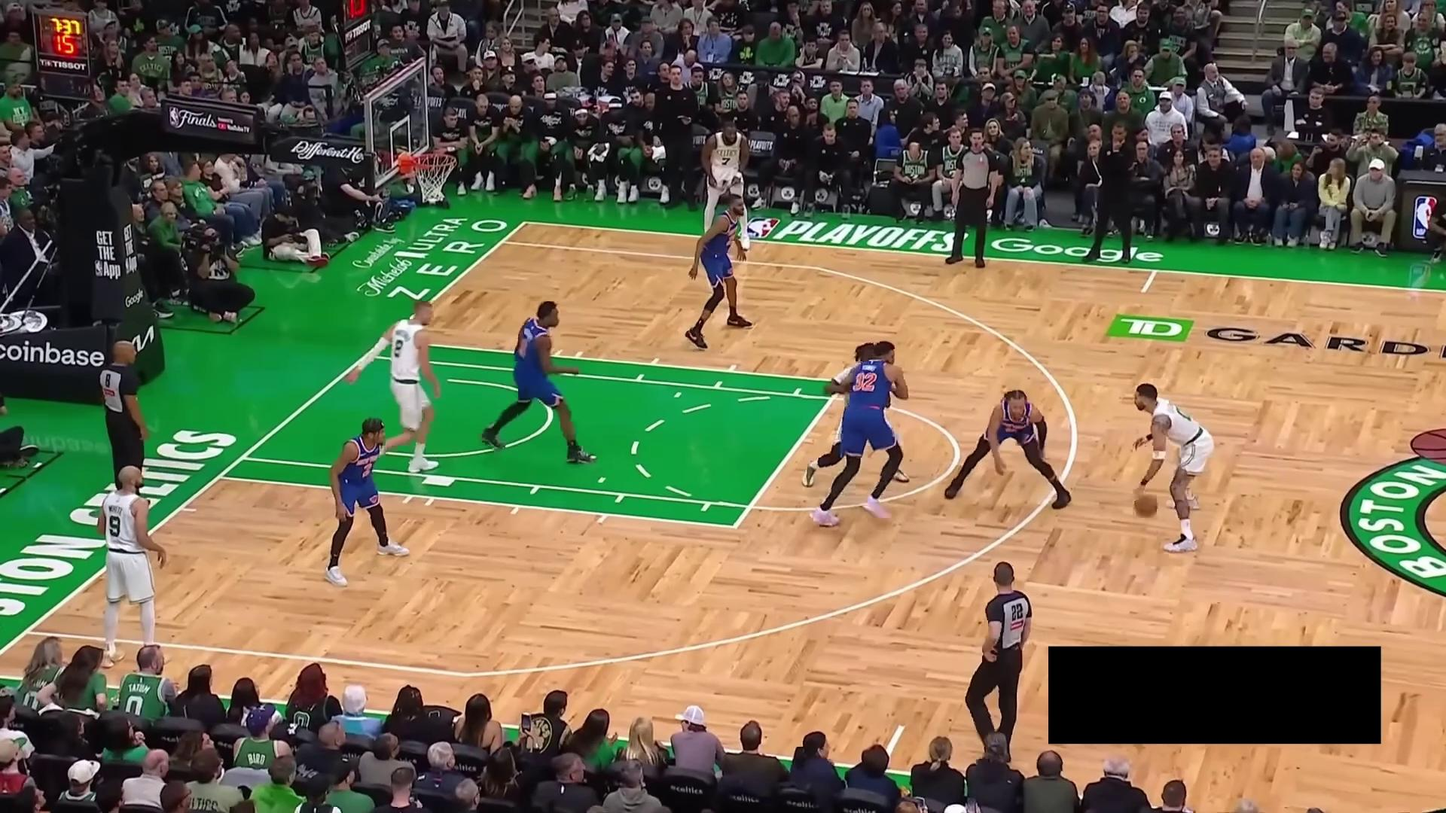ball: (1133, 493, 1159, 516)
number: (853, 371, 878, 392), (108, 515, 120, 537), (394, 339, 404, 358), (362, 463, 373, 479), (720, 156, 731, 166)
player: (480, 300, 599, 464), (809, 338, 910, 530), (345, 299, 443, 473), (802, 341, 909, 487), (944, 388, 1072, 510), (323, 415, 413, 588), (95, 464, 169, 671), (684, 193, 755, 351), (699, 117, 752, 252)
player-in-possession: (1132, 383, 1216, 553)
referee: (965, 560, 1033, 765), (945, 127, 1002, 269), (98, 340, 150, 493)
rim: (412, 151, 457, 169)
